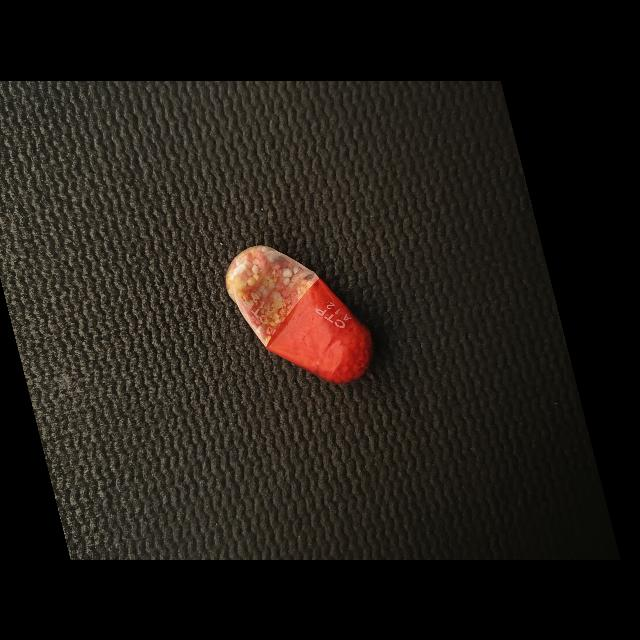Defective Capsule: (226, 244, 373, 383)
